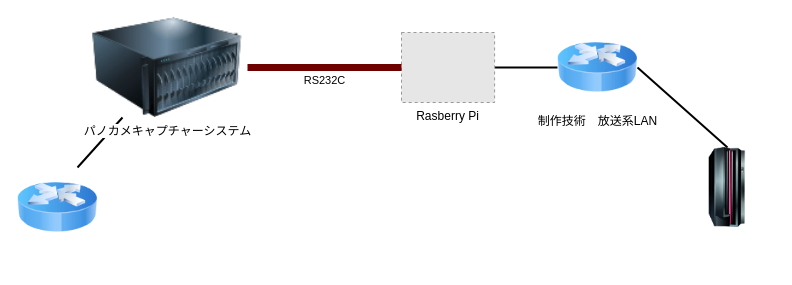
This 792x285 diagram has some shape labels left out. Grey dashed boxes stand in for pictures. The shapes that lost their labels are listed below. From the top down, each one's centre as x and y in pixels, then its label:
[57,207]: 社内LAN
[727,187]: 新素材分配ルータ
